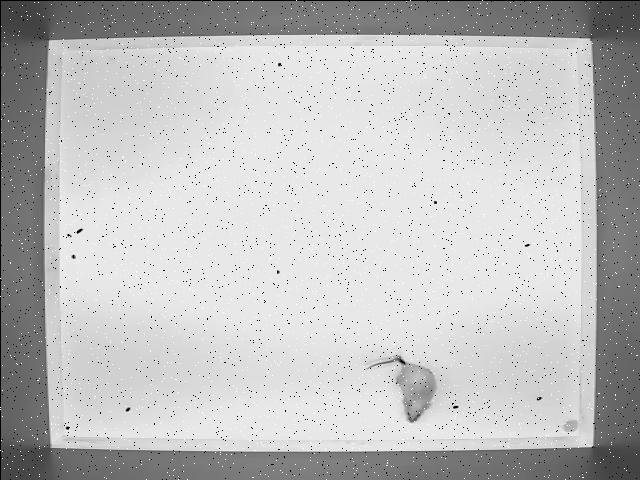Tikus: (361, 351, 443, 425)
